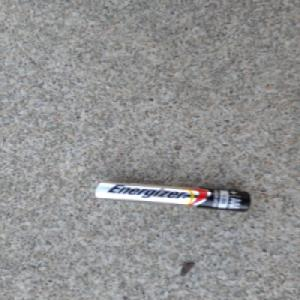Battery: (92, 179, 252, 214)
